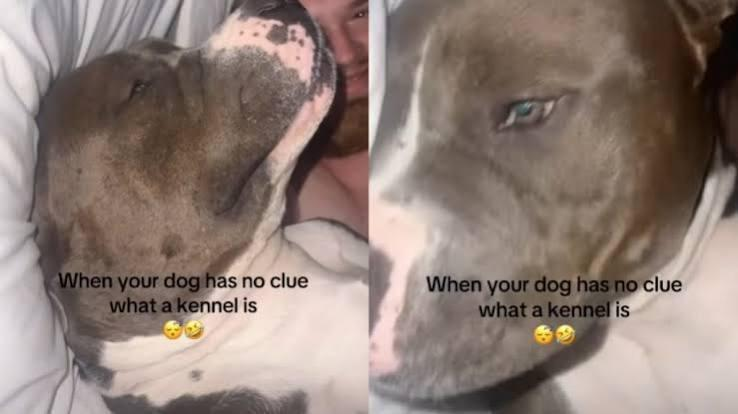adult_dog: (368, 1, 738, 411), (32, 0, 369, 414)
